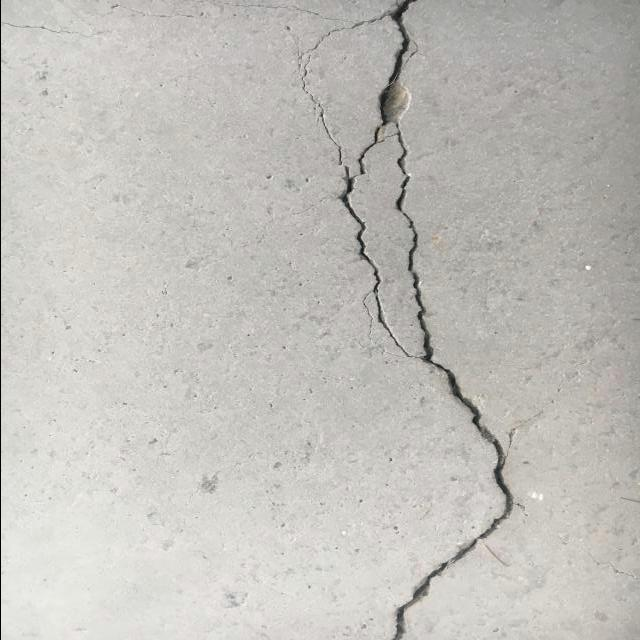SurfaceCrack: (286, 1, 545, 640)
